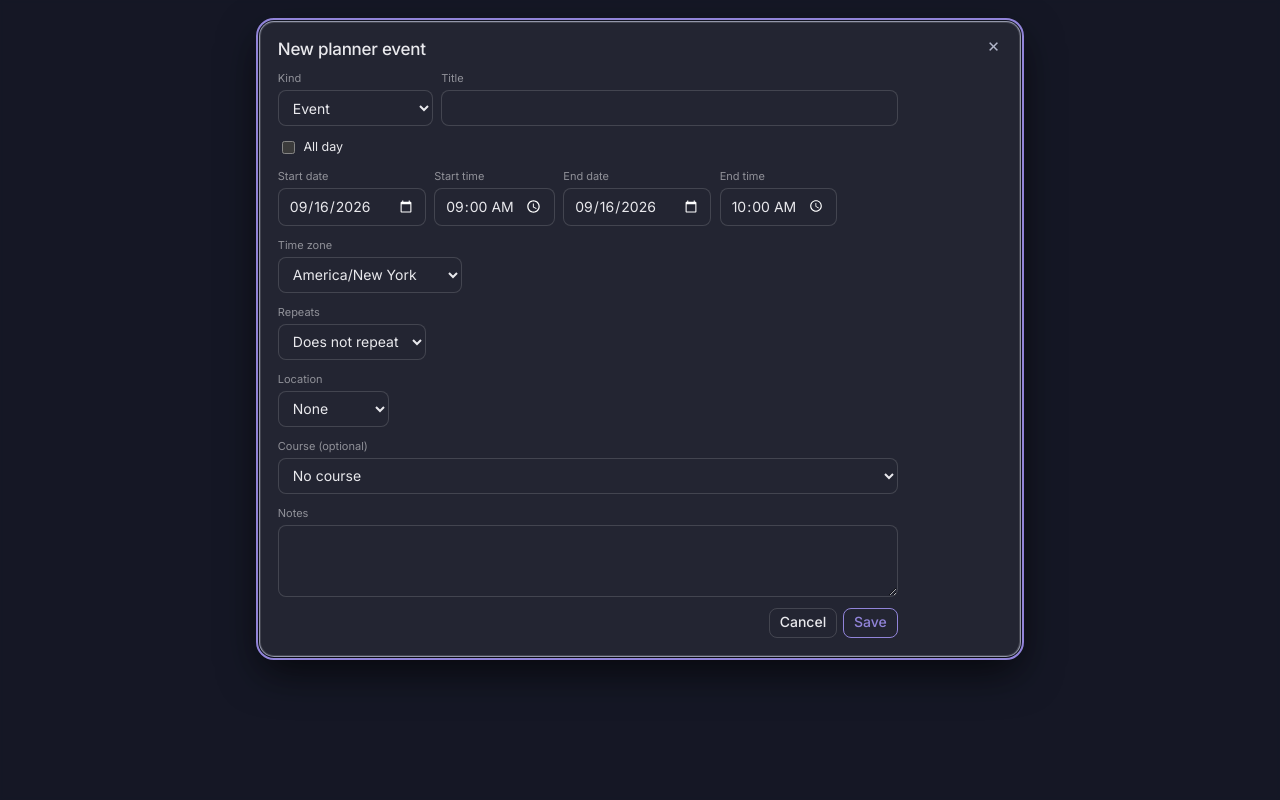
Test: a new event › asks for an end date as soon as it repeats
The width and height of the screenshot is (1280, 800).
Select "Weekly" in the dropdown labelled "Repeats" at [352, 342], box x1=278 y1=324 x2=426 y2=360
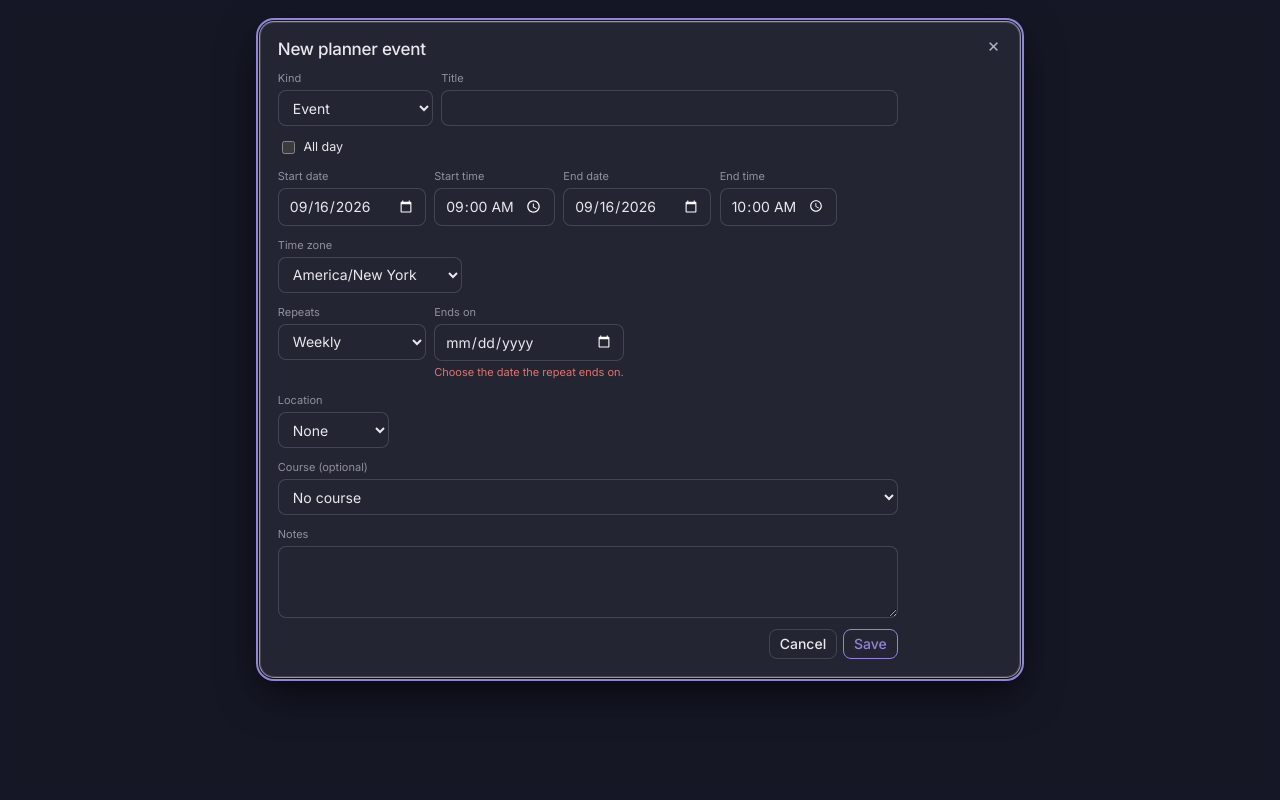
Result: the date field labelled "Ends on" is shown at x1=434 y1=324 x2=624 y2=361
Result: the text "Choose the date the repeat ends on." is shown at x1=434 y1=364 x2=624 y2=381
